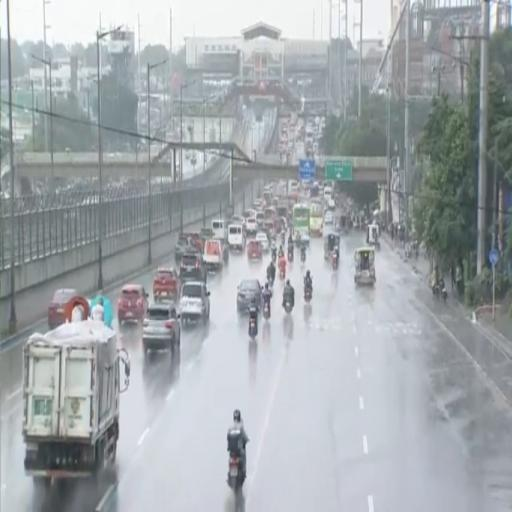bus: (292, 204, 310, 239), (310, 199, 323, 236)
car: (143, 303, 180, 354), (180, 281, 210, 322), (118, 284, 148, 324), (48, 288, 77, 329), (236, 278, 263, 314), (153, 267, 179, 301), (180, 251, 207, 283), (203, 239, 224, 270), (175, 234, 195, 263), (246, 239, 262, 260), (185, 232, 202, 251), (255, 232, 269, 252), (200, 228, 214, 247), (246, 217, 258, 234), (243, 208, 256, 223), (230, 215, 244, 225), (256, 212, 264, 228), (324, 212, 333, 225), (253, 199, 263, 210)
motorcycle: (228, 455, 244, 493), (433, 281, 447, 302), (249, 317, 257, 340), (262, 301, 270, 320), (304, 286, 312, 302), (284, 298, 292, 313), (433, 284, 440, 299), (332, 253, 338, 270), (279, 266, 286, 280), (441, 286, 447, 302), (288, 248, 293, 262), (271, 249, 276, 263), (301, 248, 305, 263), (267, 277, 273, 287), (281, 231, 285, 245)
truck: (23, 319, 130, 490)
